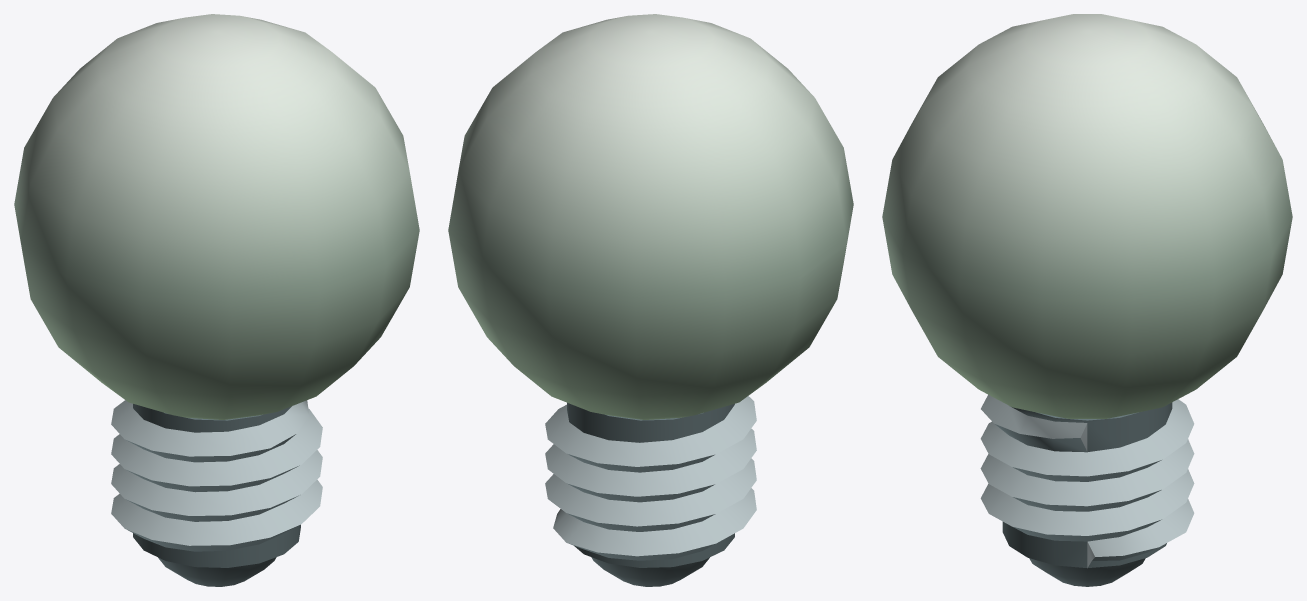
Rendered from Lamp.fbx.
The picture shows the model from 3 angles, left to right: view 1: azimuth 30°, elevation 25°; view 2: azimuth 150°, elevation 25°; view 3: azimuth 270°, elevation 25°; orthographic projection.
Parts seen in each view (by area): view 1: Lamp; view 2: Lamp; view 3: Lamp.
Boxes of the visible parts, x1=… form: Lamp: x1=14, y1=14, x2=419, y2=586; Lamp: x1=448, y1=14, x2=853, y2=586; Lamp: x1=882, y1=14, x2=1292, y2=586.
Size of the model in its own units: 250 by 373 by 256.
